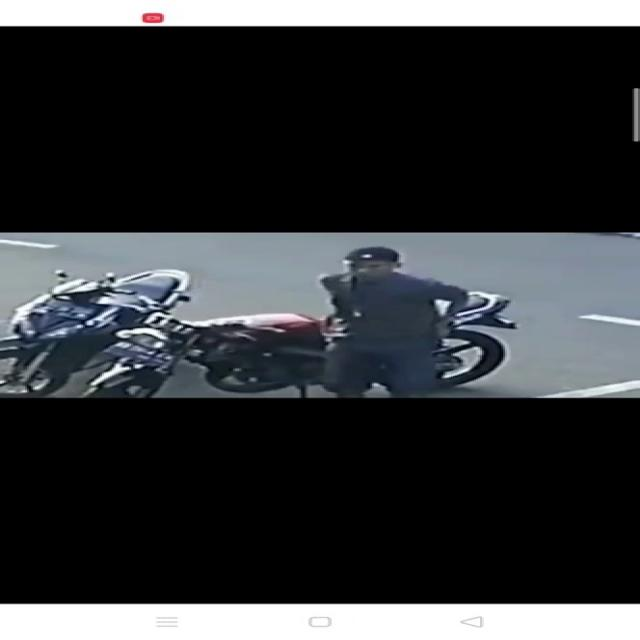pencurian: (198, 245, 462, 398)
